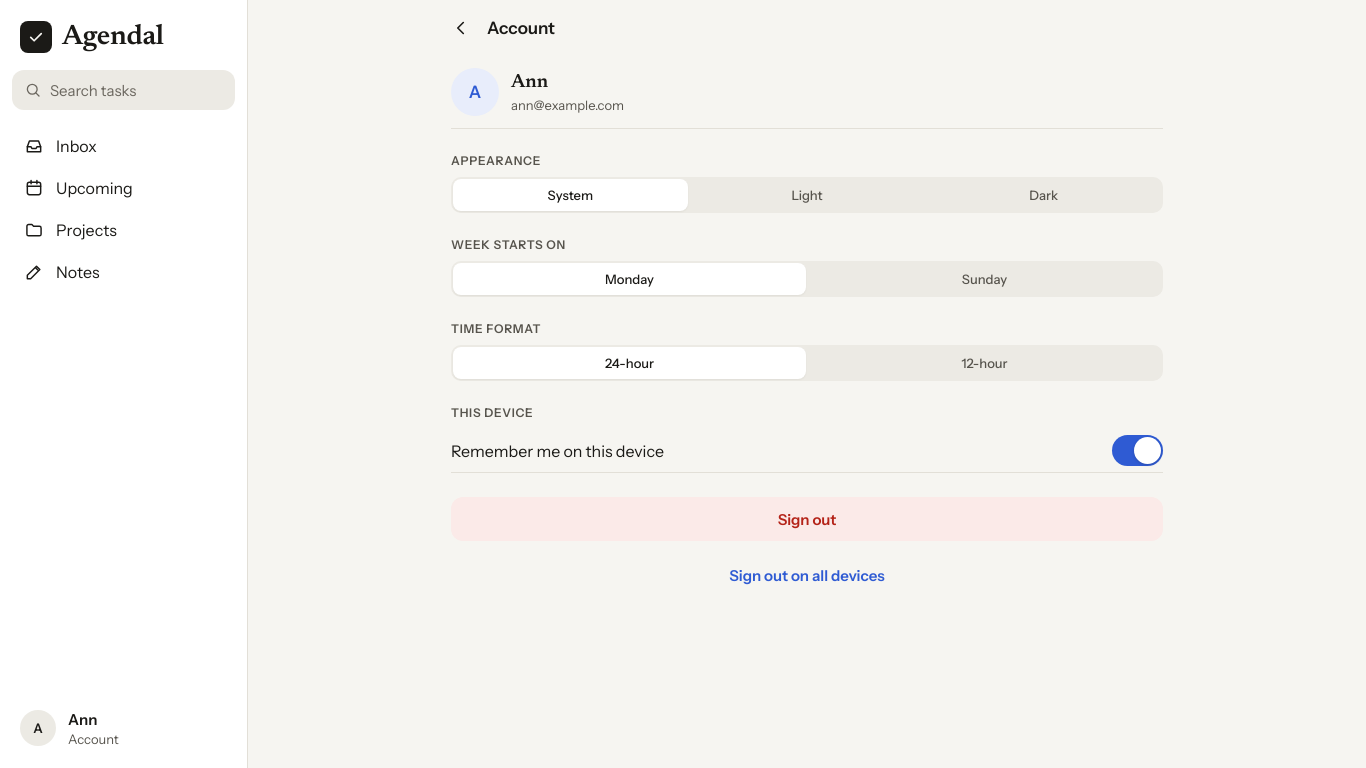
Scenario: Sign out (AA-5) › offline, Sign out on all devices keeps this device signed in and says why
Check: the text "ann@example.com" is shown, box [511,96,624,114]
Click the button "Sign out on all devices".
click(807, 575)  # box [721,553,893,597]
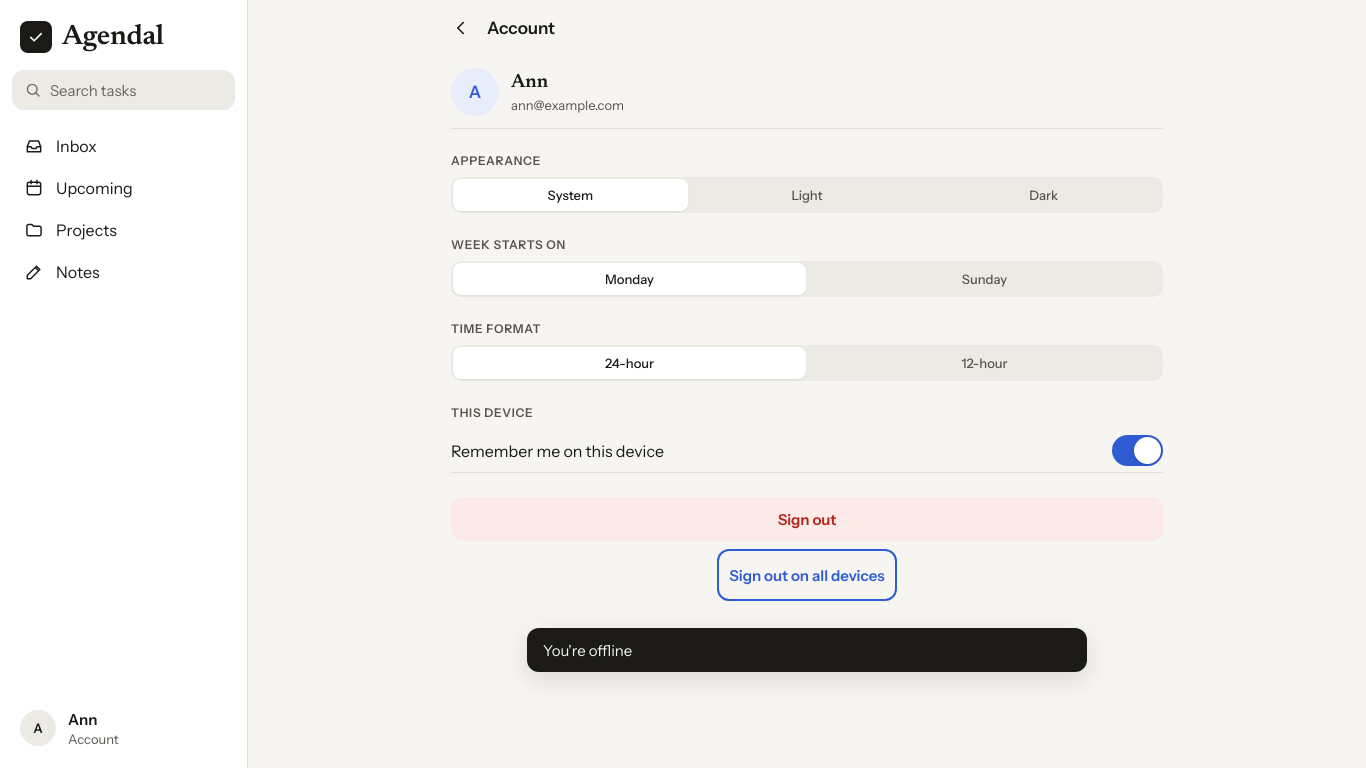
Check: the text "You're offline" is shown, box [543,640,632,660]
